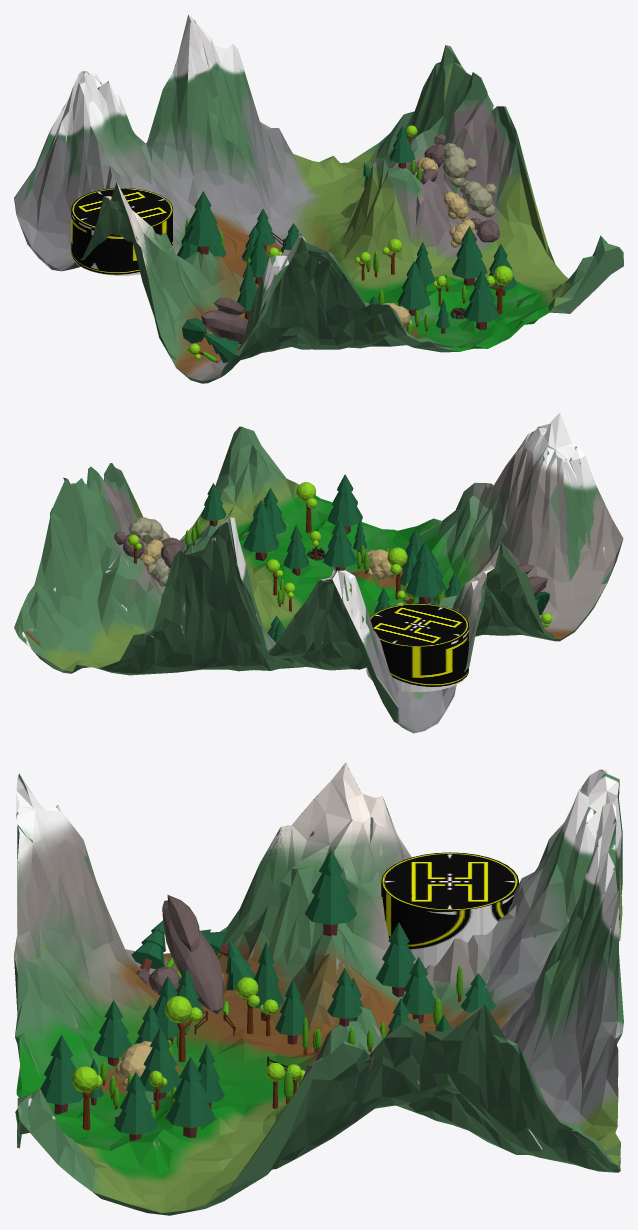
Rendered from mountain_forest_environment.dae.
3 views of the same model, one above another, from view 1: azimuth 30°, elevation 25°; view 2: azimuth 150°, elevation 25°; view 3: azimuth 270°, elevation 25° (orthographic). The views are drawn at different scales.
Visible parts, largest first — view 1: node, Cylinder, node.047, node.012, node.021, node.024, node.023, node.036, node.033, node.011, node.037, node.005 (+3 smaller); view 2: node, Cylinder, node.012, node.021, node.024, node.023, node.020, node.036, node.037, node.029, node.022, Icosphere_001_Icosphere_003.005 (+1 smaller); view 3: node, Cylinder, node.047, node.012, node.021, node.024, node.022, node.009, node.023, node.013, node.007, node.017 (+12 smaller).
Boxes of the visible parts, box(x1,y1,x2,y2) form: node: box(14, 14, 623, 383); Cylinder: box(71, 188, 172, 275); node.047: box(201, 297, 247, 343); node.012: box(184, 191, 222, 254); node.021: box(451, 226, 487, 285); node.024: box(464, 270, 499, 330); node.023: box(397, 261, 430, 315); node.036: box(442, 143, 476, 187); node.033: box(459, 180, 497, 217); node.011: box(237, 261, 257, 319); node.037: box(390, 125, 415, 168); node.005: box(250, 233, 268, 284); node: box(14, 413, 623, 733); Cylinder: box(366, 603, 468, 692); node.012: box(405, 541, 443, 603); node.021: box(243, 500, 279, 560); node.024: box(327, 474, 362, 534); node.023: box(323, 518, 356, 571); node.020: box(283, 524, 309, 575); node.036: box(128, 517, 163, 544); node.037: box(200, 483, 226, 526); node.029: box(363, 549, 394, 579); node.022: box(263, 488, 286, 536); Icosphere_001_Icosphere_003.005: box(296, 482, 317, 532); node: box(14, 762, 623, 1215); Cylinder: box(381, 852, 518, 968); node.047: box(162, 894, 223, 1013); node.012: box(304, 849, 357, 935); node.021: box(165, 1057, 215, 1137); node.024: box(40, 1035, 83, 1114); node.022: box(114, 1072, 157, 1140); node.009: box(376, 922, 415, 997); node.023: box(140, 1027, 181, 1100); node.013: box(93, 1000, 131, 1066); node.007: box(402, 957, 435, 1023); node.017: box(275, 979, 310, 1044).
Size of the model in its own units: 101 by 101 by 49.78.
16 materials, 7 textured.
